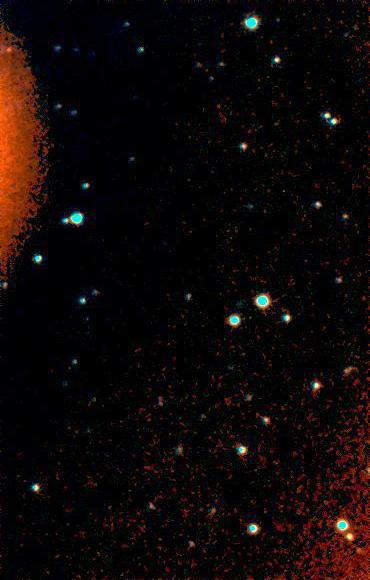star: (1, 31, 31, 61)
